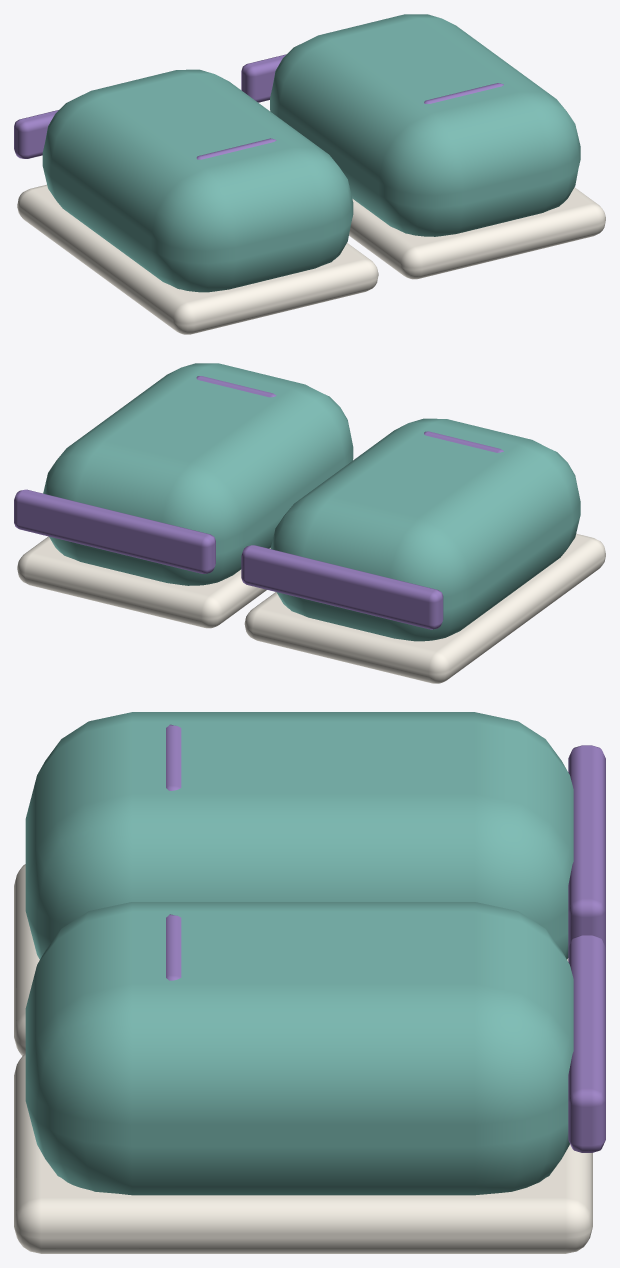
The model's file is cyan_trainers.glb.
3 views of the same model, one above another, from view 1: azimuth 30°, elevation 25°; view 2: azimuth 150°, elevation 25°; view 3: azimuth 270°, elevation 25° (orthographic). The views are drawn at different scales.
Parts seen in each view (by area): view 1: cyan_trainers_LegL, cyan_trainers_LegR; view 2: cyan_trainers_LegL, cyan_trainers_LegR; view 3: cyan_trainers_LegR, cyan_trainers_LegL.
Boxes of the visible parts, <box> form: cyan_trainers_LegL: <box>14,69,378,334</box>; cyan_trainers_LegR: <box>241,14,605,279</box>; cyan_trainers_LegL: <box>241,418,605,683</box>; cyan_trainers_LegR: <box>14,363,353,628</box>; cyan_trainers_LegR: <box>14,902,605,1253</box>; cyan_trainers_LegL: <box>14,712,605,1055</box>.
Bounding box in the file's own units: 0.36 × 0.1087 × 0.2505.
